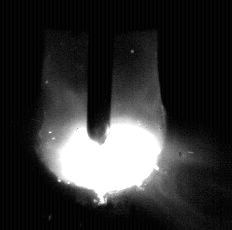arame: (88, 0, 112, 145)
poca: (38, 0, 166, 230)
